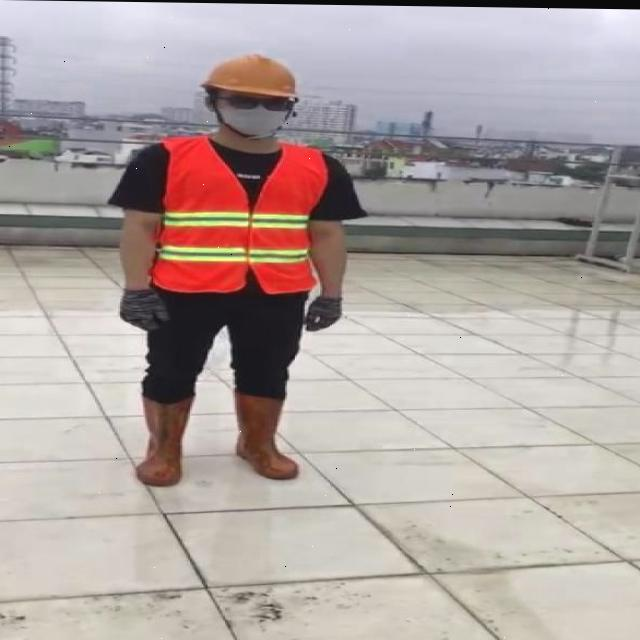Gloves: (120, 287, 172, 331), (306, 294, 343, 330)
Safety-Boot: (235, 387, 300, 479), (137, 391, 196, 486)
Safety-Vest: (151, 133, 331, 296)
